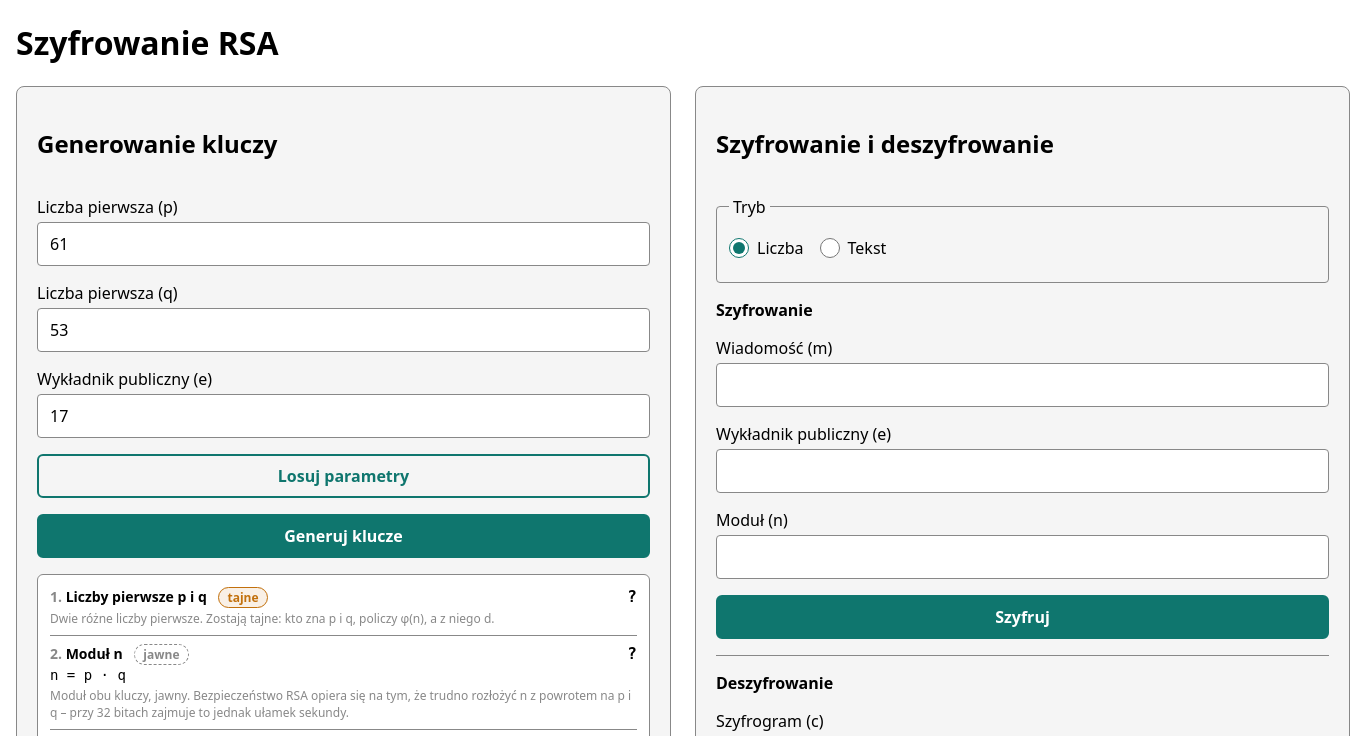
losowanie a operacje formularza › RSA: wartości spoza zakresu nie trafiają do formularza
Click the button "Losuj parametry" at [344, 476], box top-left (37, 454), bottom-right (650, 498)
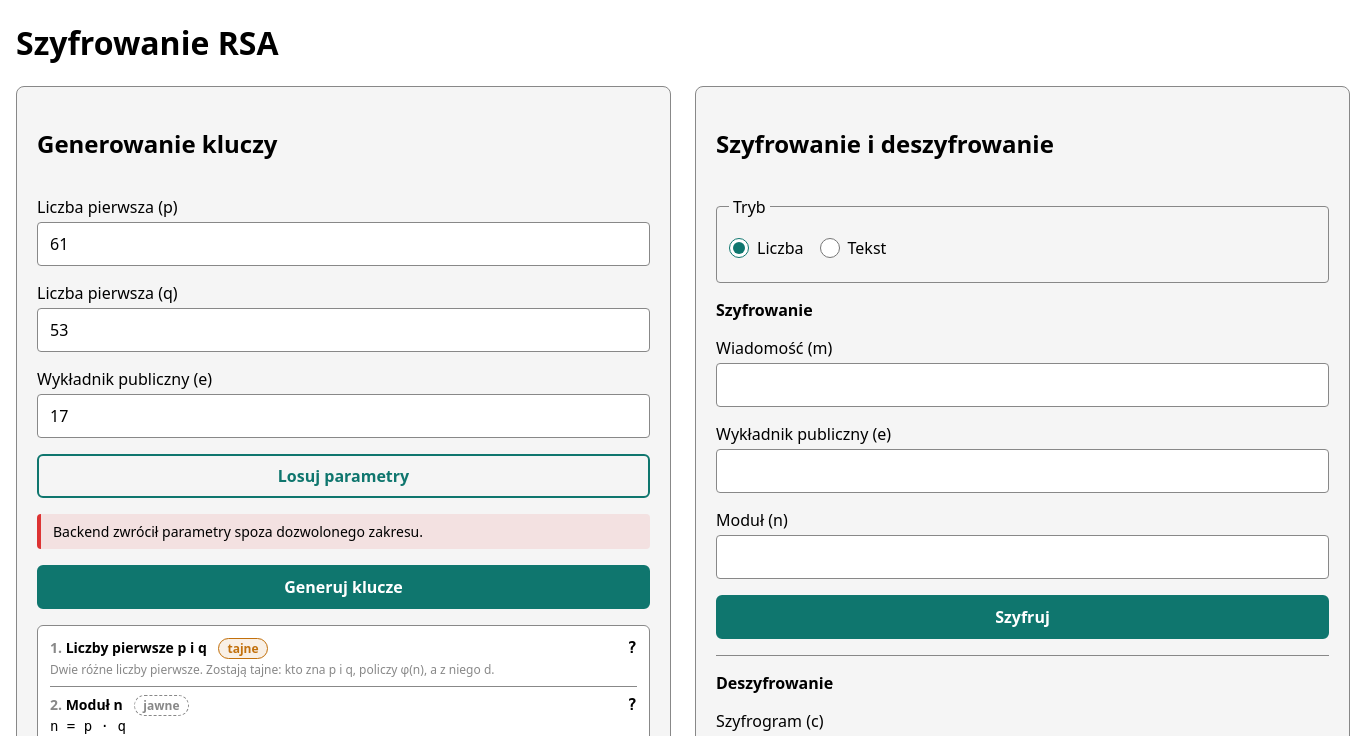
Result: the text "Backend zwrócił parametry spoza dozwolonego zakresu." is shown at top-left (37, 514), bottom-right (650, 549)
